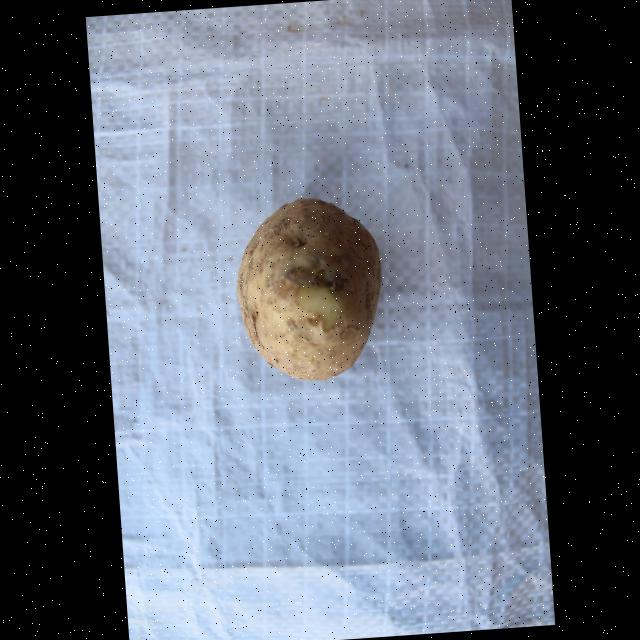Diseased-fungal potato: (224, 184, 393, 394)
